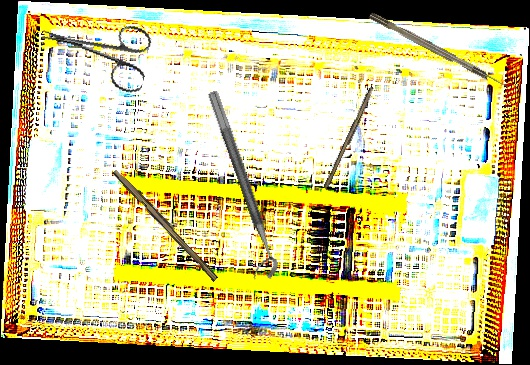Fixation Ring: (191, 89, 283, 285)
Hook Surgical: (368, 10, 510, 92)
Iris Scissors: (33, 3, 157, 96)
Scalpel Handle: (110, 167, 222, 282), (323, 85, 376, 191)
